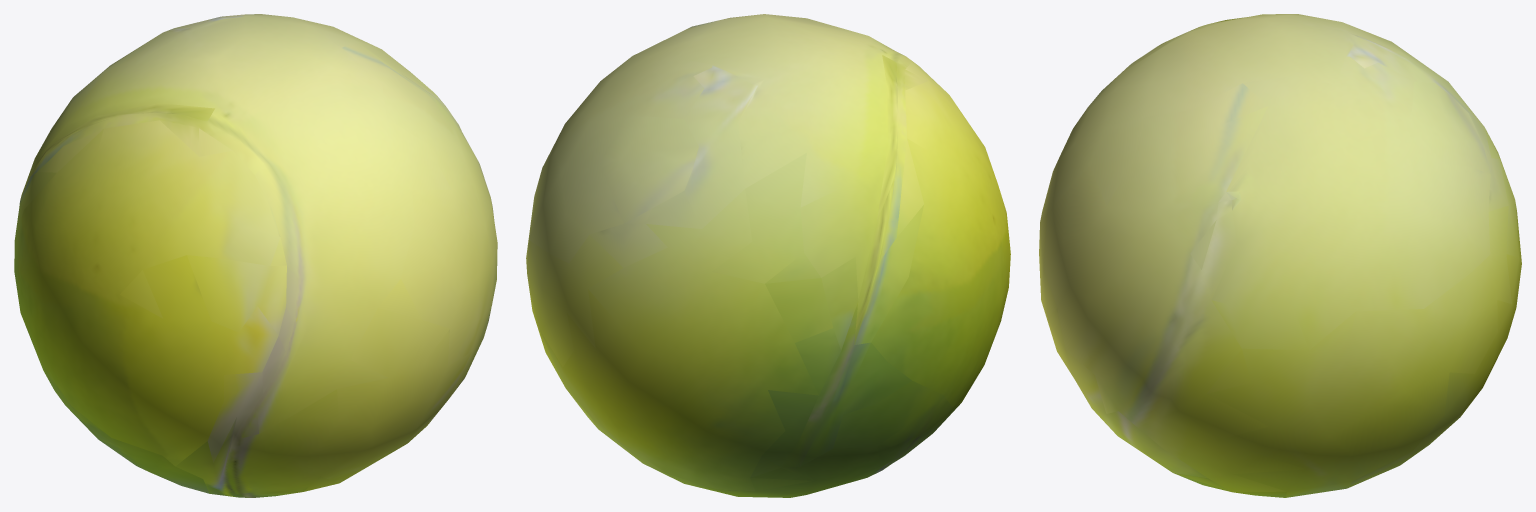
File: Ball.fbx
3 views of the same model, side by side, from view 1: azimuth 30°, elevation 25°; view 2: azimuth 150°, elevation 25°; view 3: azimuth 270°, elevation 25° (orthographic).
Parts seen in each view (by area): view 1: Ball; view 2: Ball; view 3: Ball.
Part boxes in pixels (left/top/right/bottom): Ball: left=14, top=14, right=497, bottom=497; Ball: left=526, top=14, right=1010, bottom=497; Ball: left=1039, top=14, right=1521, bottom=497.
Size of the model in its own units: 0.0666 by 0.0669 by 0.0667.
1 material, 1 textured.
